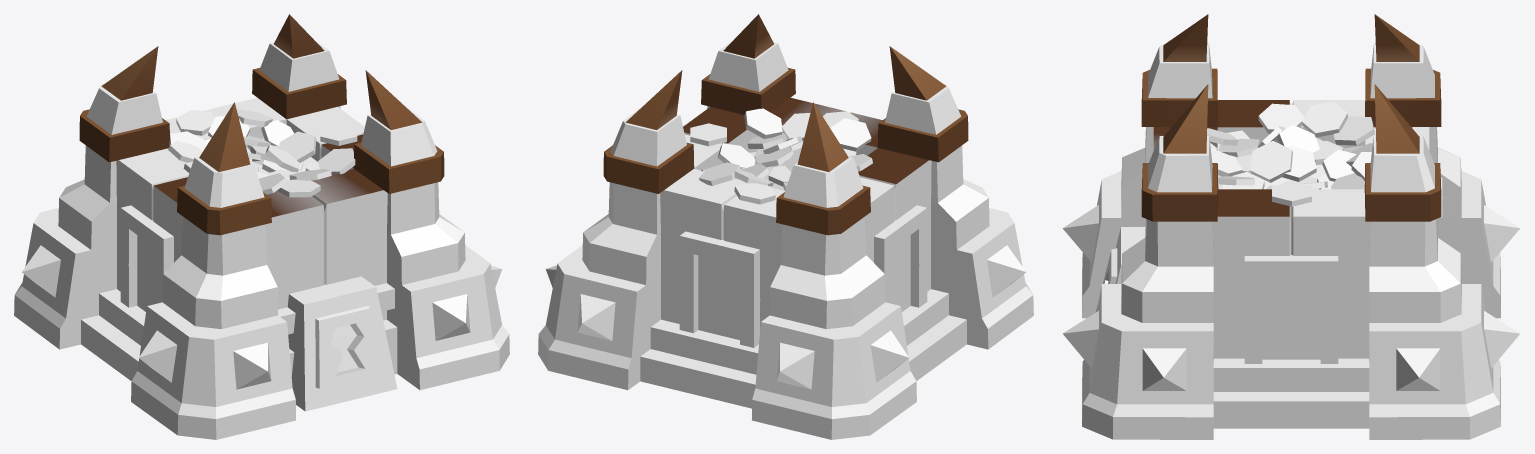
File: Building_GoldMine_Lv8.fbx
3 views of the same model, side by side, from view 1: azimuth 30°, elevation 25°; view 2: azimuth 150°, elevation 25°; view 3: azimuth 270°, elevation 25° (orthographic). The views are drawn at different scales.
Visible parts, largest first — view 1: Building_GoldMine_Lv8, gold_3; view 2: Building_GoldMine_Lv8, gold_3; view 3: Building_GoldMine_Lv8, gold_3, gold_2.
Boxes of the visible parts, bbox=[...] form: Building_GoldMine_Lv8: bbox=[14, 14, 509, 439]; gold_3: bbox=[168, 109, 357, 197]; Building_GoldMine_Lv8: bbox=[538, 14, 1033, 439]; gold_3: bbox=[690, 108, 872, 204]; Building_GoldMine_Lv8: bbox=[1062, 14, 1520, 439]; gold_3: bbox=[1207, 101, 1374, 206]; gold_2: bbox=[1253, 164, 1333, 189].
Bounding box in the file's own units: 1.07 × 0.7816 × 1.07.
